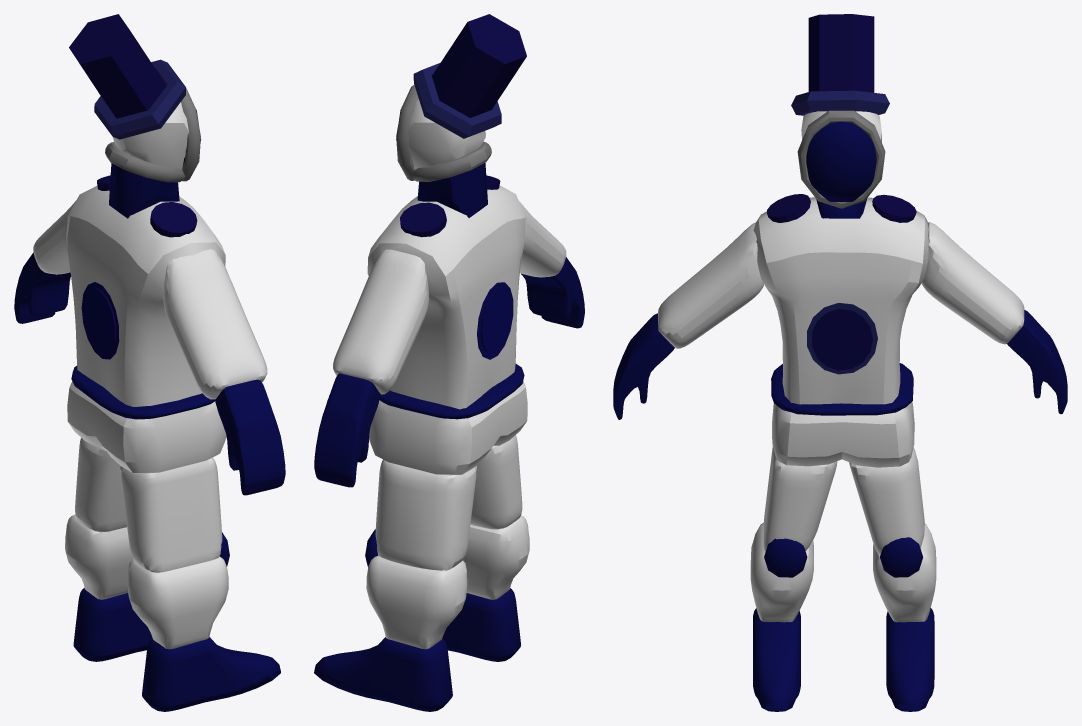
File: Captain.fbx
The picture shows the model from 3 angles, left to right: view 1: azimuth 30°, elevation 25°; view 2: azimuth 150°, elevation 25°; view 3: azimuth 270°, elevation 25°; orthographic projection. The views are drawn at different scales.
Visible parts, largest first — view 1: Body, ArmRight, LegRight, Cube.006, Cube.004, BottomLegRight, Cylinder, HandRight, Cube.003, BottomLegRight.001, LegLeft, Torus.001 (+10 smaller); view 2: Body, LegLeft, ArmLeft, Cube.006, Cube.003, BottomLegRight.001, Cylinder, HandRight.001, Cube.004, BottomLegRight, LegRight, HandRight (+10 smaller); view 3: Body, Cube.006, ArmRight, ArmLeft, Cylinder, LegLeft, LegRight, BlackCover, Cube.003, Cube.004, BottomLegRight, BottomLegRight.001 (+11 smaller).
Boxes of the visible parts, left/top/right/bottom form: Body: left=66, top=186, right=225, bottom=406; ArmRight: left=163, top=249, right=267, bottom=399; LegRight: left=120, top=457, right=222, bottom=572; Cube.006: left=67, top=381, right=226, bottom=473; Cube.004: left=142, top=637, right=280, bottom=711; BottomLegRight: left=127, top=556, right=228, bottom=649; Cylinder: left=69, top=14, right=166, bottom=118; HandRight: left=215, top=379, right=285, bottom=495; Cube.003: left=73, top=588, right=152, bottom=661; BottomLegRight.001: left=65, top=514, right=133, bottom=599; LegLeft: left=75, top=438, right=126, bottom=532; Torus.001: left=94, top=59, right=185, bottom=139; Body: left=367, top=185, right=525, bottom=409; LegLeft: left=375, top=459, right=476, bottom=570; ArmLeft: left=333, top=249, right=429, bottom=394; Cube.006: left=369, top=381, right=527, bottom=475; Cube.003: left=314, top=637, right=452, bottom=711; BottomLegRight.001: left=366, top=556, right=467, bottom=649; Cylinder: left=432, top=14, right=526, bottom=117; HandRight.001: left=314, top=373, right=380, bottom=487; Cube.004: left=442, top=588, right=520, bottom=661; BottomLegRight: left=463, top=515, right=529, bottom=599; LegRight: left=470, top=435, right=522, bottom=529; HandRight: left=521, top=257, right=584, bottom=328; Body: left=753, top=197, right=928, bottom=404; Cube.006: left=772, top=402, right=914, bottom=467; ArmRight: left=658, top=222, right=763, bottom=348; ArmLeft: left=921, top=222, right=1024, bottom=344; Cylinder: left=808, top=14, right=874, bottom=92; LegLeft: left=849, top=447, right=924, bottom=554; LegRight: left=763, top=445, right=837, bottom=551; BlackCover: left=806, top=121, right=876, bottom=202; Cube.003: left=886, top=608, right=934, bottom=711; Cube.004: left=753, top=608, right=800, bottom=711; BottomLegRight: left=750, top=523, right=813, bottom=622; BottomLegRight.001: left=873, top=523, right=936, bottom=622.
Bounding box in the file's own units: 127 × 471 × 298.
